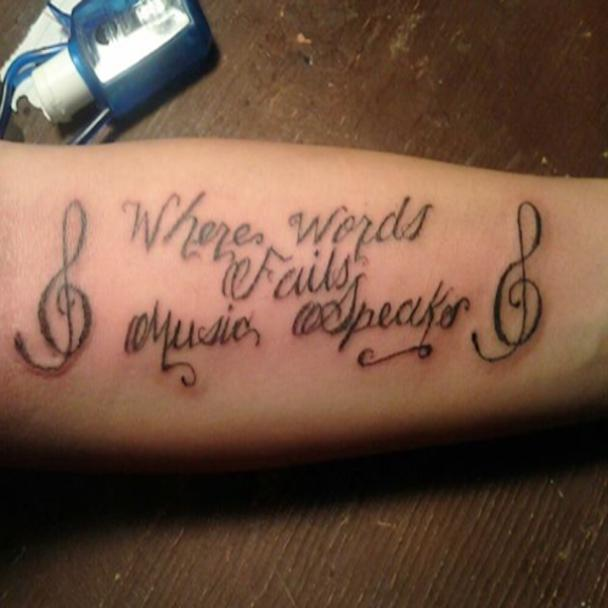tattoos: (11, 190, 545, 389)
